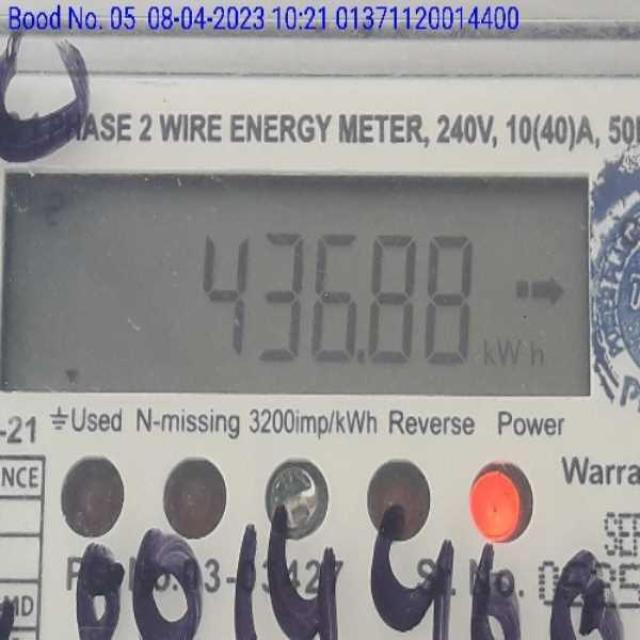3: (252, 218, 309, 376)
4: (189, 217, 253, 376)
6: (312, 221, 356, 374)
8: (415, 217, 479, 372), (368, 219, 417, 372)
Digital meter: (8, 178, 600, 399)
point: (353, 347, 370, 366)
